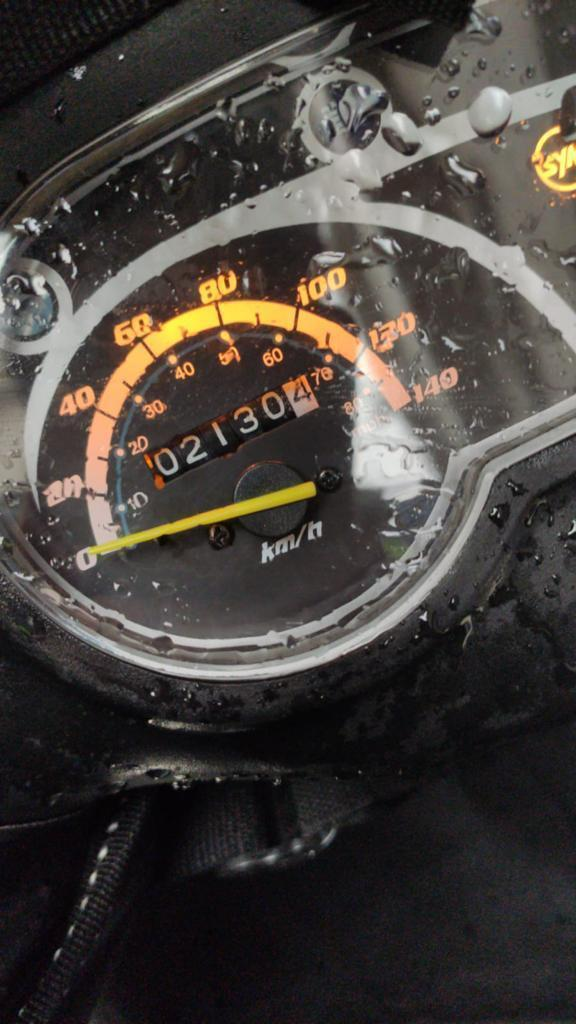0: (259, 389, 287, 420), (153, 448, 179, 478), (152, 399, 165, 413), (138, 435, 148, 451)
1: (208, 415, 229, 448)
2: (177, 434, 210, 465)
3: (233, 404, 258, 434), (142, 403, 155, 420)
4: (290, 379, 314, 407), (175, 365, 185, 380)
7: (310, 371, 320, 385)
odometer: (138, 371, 323, 494)
